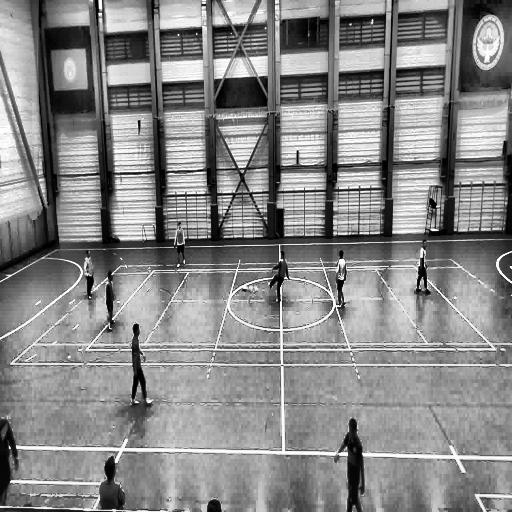ball: (242, 282, 249, 295)
player: (334, 418, 364, 511), (130, 322, 152, 407), (0, 416, 19, 508), (96, 456, 124, 510), (269, 248, 288, 303), (413, 238, 429, 294), (333, 249, 346, 309), (105, 270, 116, 330), (84, 249, 94, 300), (175, 222, 186, 266)
